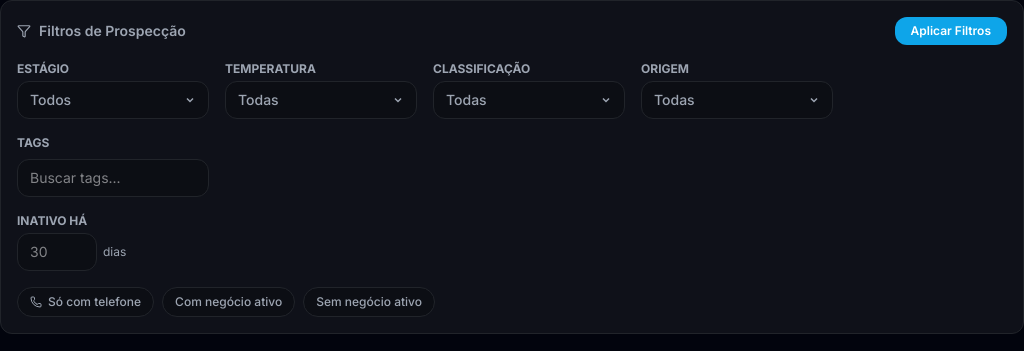
Test: ProspectingFilters › renders all classification options
Click the button "Todas" below "Classificação".
click(529, 100)  # box [433,81,625,119]
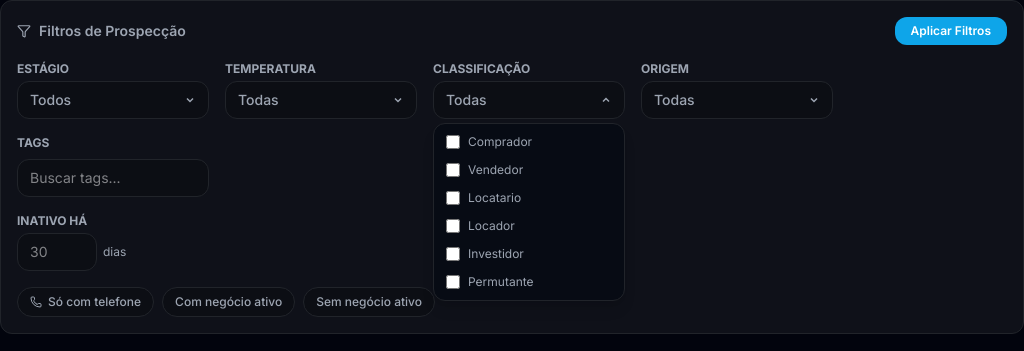
Expected: the text "Comprador" is shown, [446,134,532,149]
Expected: the text "Vendedor" is shown, [446,162,523,177]
Expected: the text "Investidor" is shown, [446,246,524,261]
